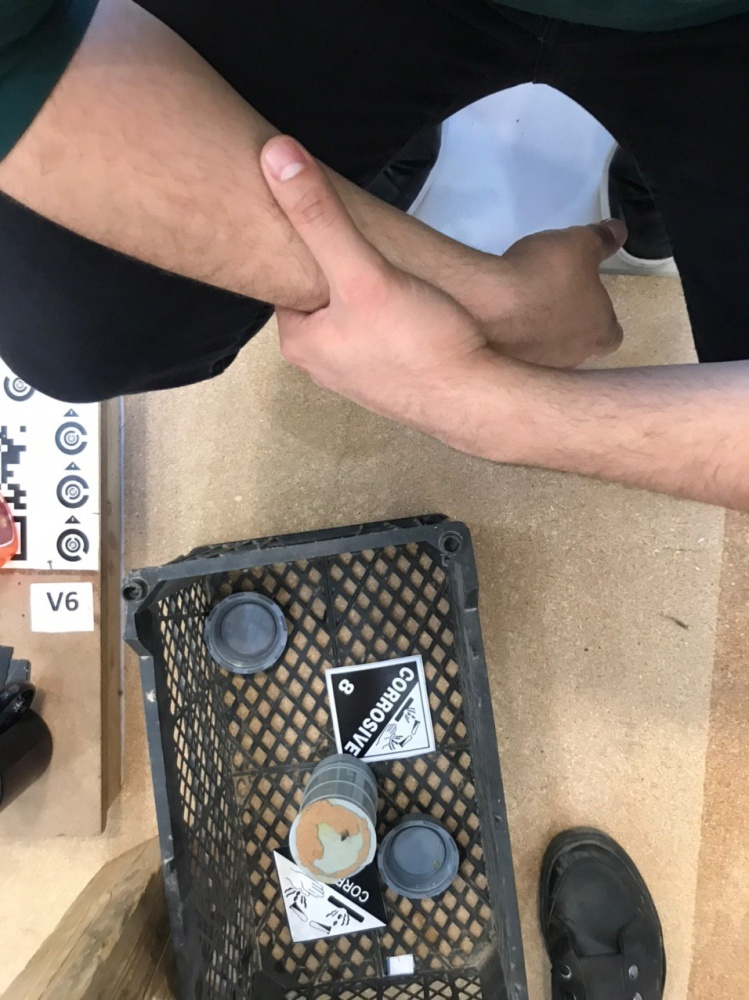Corrosive: (325, 654, 436, 764), (273, 842, 387, 942)
